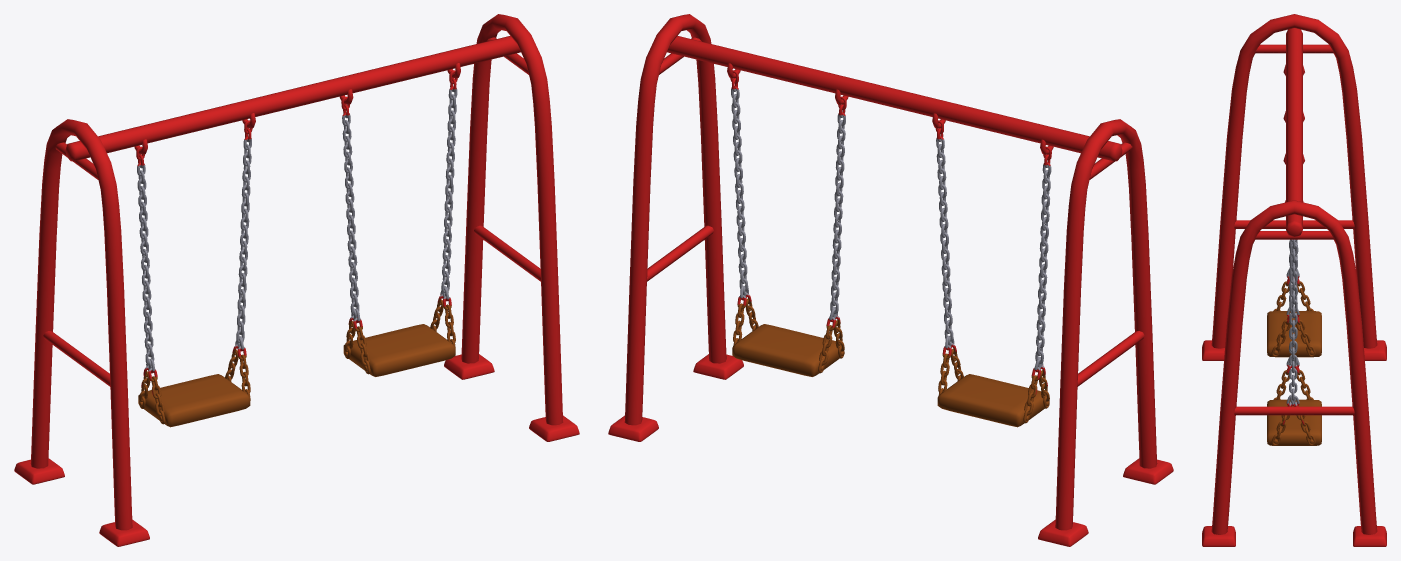
Rendered from Swing.obj.
The picture shows the model from 3 angles, left to right: view 1: azimuth 30°, elevation 25°; view 2: azimuth 150°, elevation 25°; view 3: azimuth 270°, elevation 25°; orthographic projection. The views are drawn at different scales.
Parts seen in each view (by area): view 1: swing_frame, swing_seat, swing_chain; view 2: swing_frame, swing_seat, swing_chain; view 3: swing_frame, swing_seat, swing_chain.
Part boxes in pixels (x1=…): swing_frame: x1=14, y1=14, x2=579, y2=546; swing_seat: x1=138, y1=299, x2=455, y2=427; swing_chain: x1=137, y1=88, x2=457, y2=371; swing_frame: x1=608, y1=14, x2=1173, y2=546; swing_seat: x1=732, y1=298, x2=1049, y2=427; swing_chain: x1=731, y1=87, x2=1051, y2=370; swing_frame: x1=1202, y1=14, x2=1386, y2=546; swing_seat: x1=1267, y1=281, x2=1321, y2=445; swing_chain: x1=1286, y1=239, x2=1299, y2=405.
Size of the model in its own units: 200 by 158 by 78.12.
